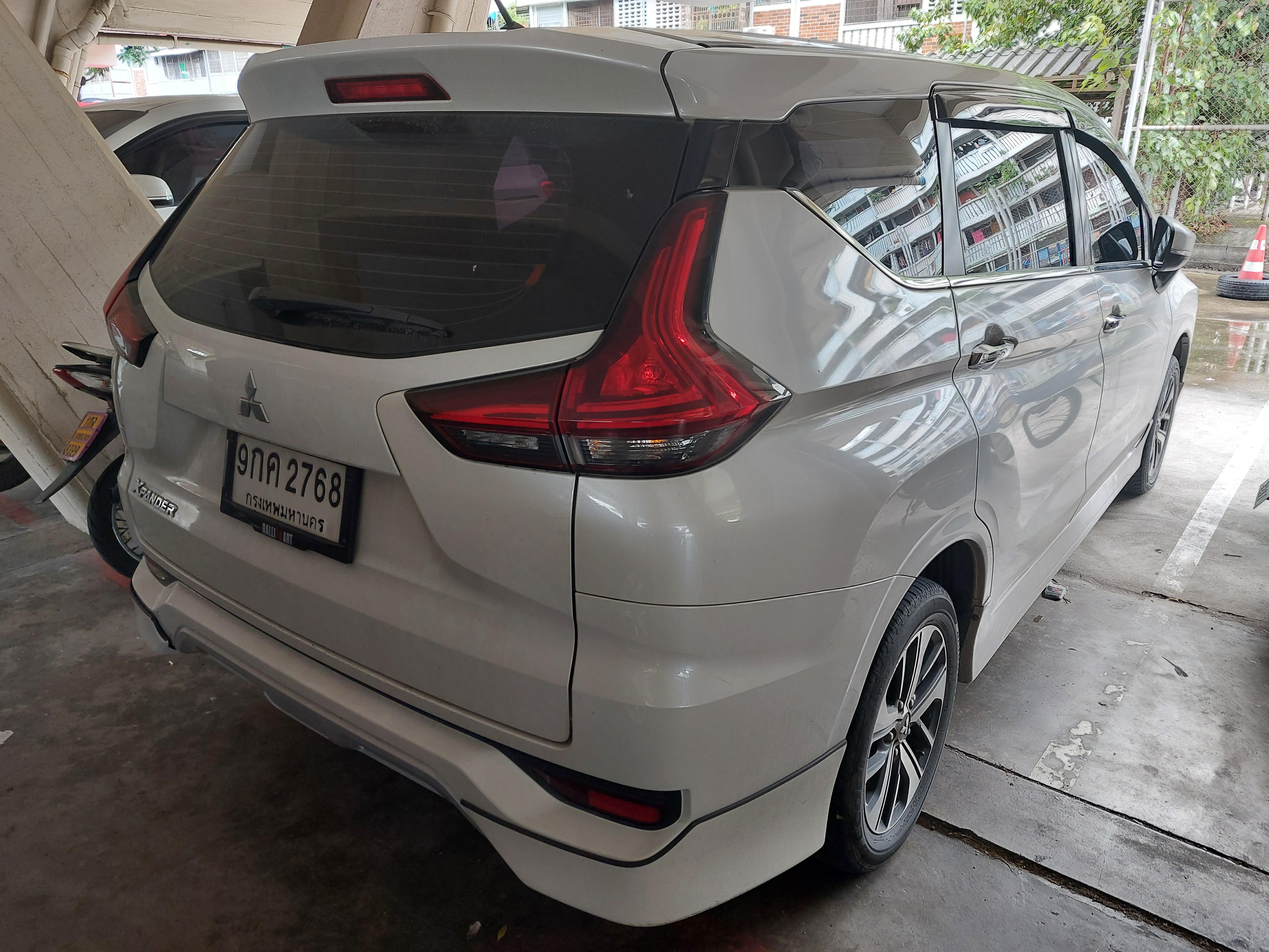license-plate: (220, 421, 362, 566)
